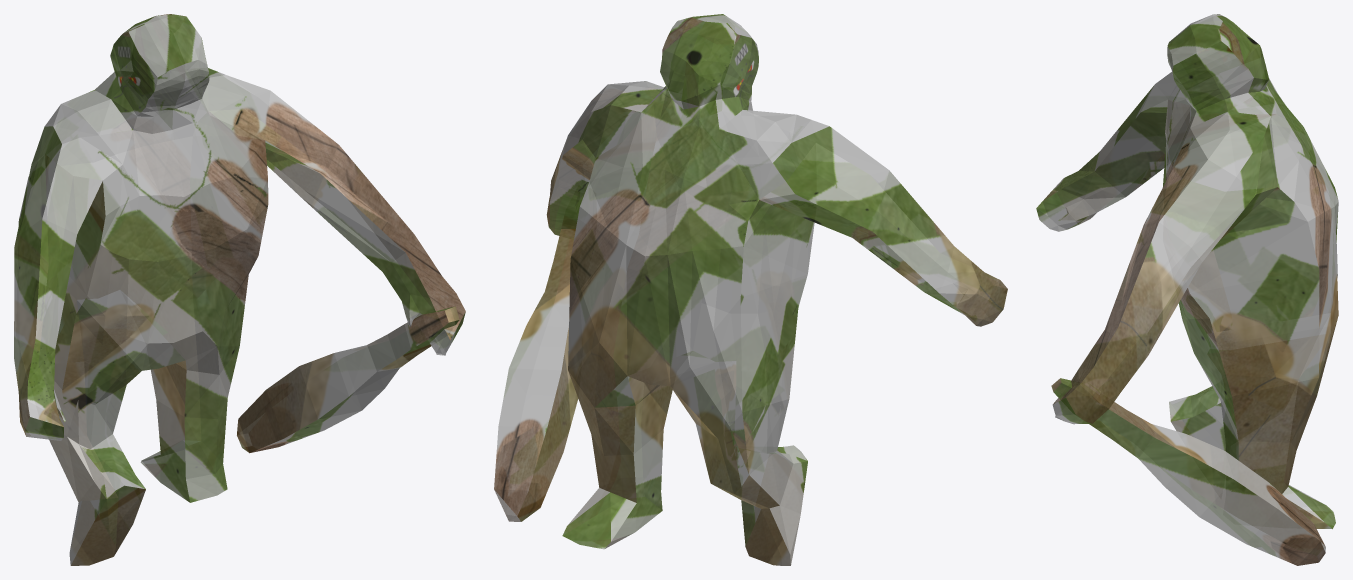
Rendered from Enemigo210.obj.
The picture shows the model from 3 angles, left to right: view 1: azimuth 30°, elevation 25°; view 2: azimuth 150°, elevation 25°; view 3: azimuth 270°, elevation 25°; orthographic projection. The views are drawn at different scales.
Visible parts, largest first — view 1: Cube; view 2: Cube; view 3: Cube.
Part boxes in pixels (bbox=[...]): Cube: bbox=[14, 14, 465, 565]; Cube: bbox=[494, 14, 1007, 565]; Cube: bbox=[1036, 14, 1338, 565].
Bounding box in the file's own units: 2.48 × 2.84 × 1.55.
